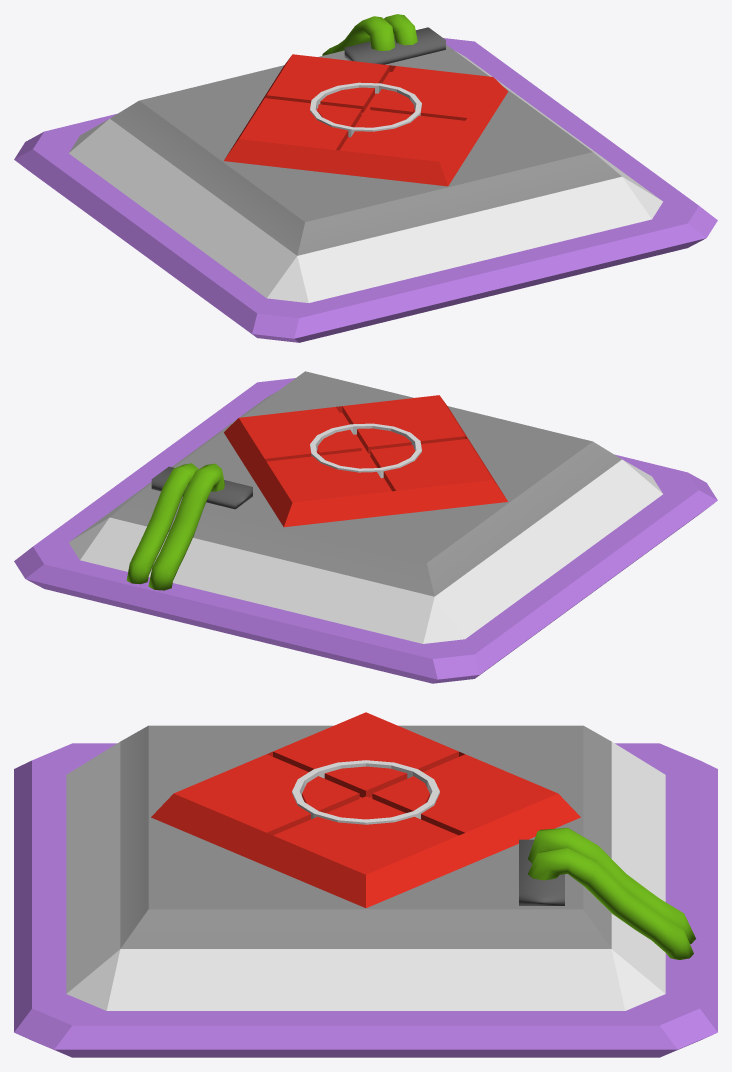
Rendered from button plate.fbx.
3 views of the same model, one above another, from view 1: azimuth 30°, elevation 25°; view 2: azimuth 150°, elevation 25°; view 3: azimuth 270°, elevation 25° (orthographic). The views are drawn at different scales.
Parts seen in each view (by area): view 1: Cube, Cube.001, Cube.002, Cylinder; view 2: Cube, Cube.001, Cube.002, Cylinder; view 3: Cube, Cube.001, Cube.002, Cylinder.
Boxes of the visible parts, x1,y1,x2,y2 form: Cube: (14, 38, 717, 342); Cube.001: (224, 54, 508, 186); Cube.002: (322, 14, 445, 64); Cylinder: (310, 82, 421, 137); Cube: (14, 371, 717, 683); Cube.001: (224, 395, 507, 527); Cube.002: (126, 463, 252, 590); Cylinder: (310, 423, 421, 478); Cube: (14, 725, 717, 1057); Cube.001: (151, 712, 580, 907); Cube.002: (519, 827, 695, 959); Cylinder: (292, 760, 439, 824).
Size of the model in its own units: 200 by 57.42 by 200.
